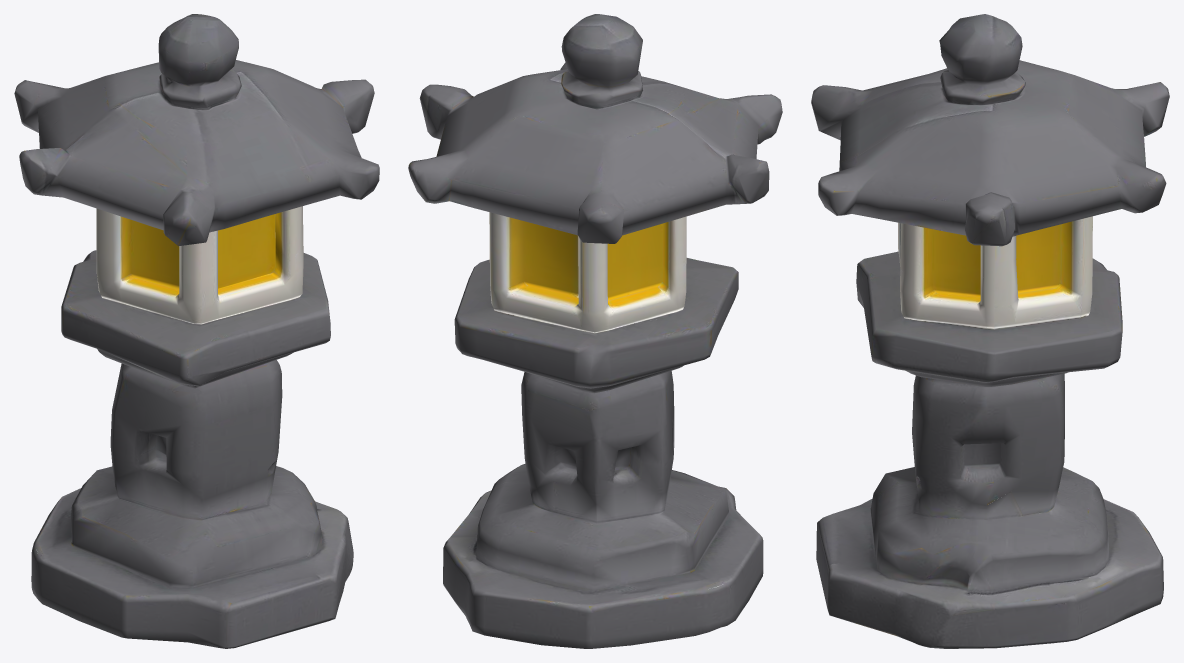
File: lantern.glb
3 views of the same model, side by side, from view 1: azimuth 30°, elevation 25°; view 2: azimuth 150°, elevation 25°; view 3: azimuth 270°, elevation 25° (orthographic).
Visible parts, largest first — view 1: prop-lantern.glb; view 2: prop-lantern.glb; view 3: prop-lantern.glb.
Boxes of the visible parts, x1=… form: prop-lantern.glb: x1=14, y1=14, x2=379, y2=648; prop-lantern.glb: x1=408, y1=14, x2=782, y2=648; prop-lantern.glb: x1=811, y1=14, x2=1169, y2=648.
Bounding box in the file's own units: 0.646 × 0.9995 × 0.5699.
1 material, 1 textured.
